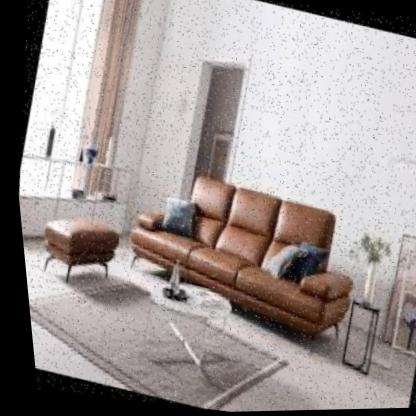Sofa: (84, 137, 380, 389)
